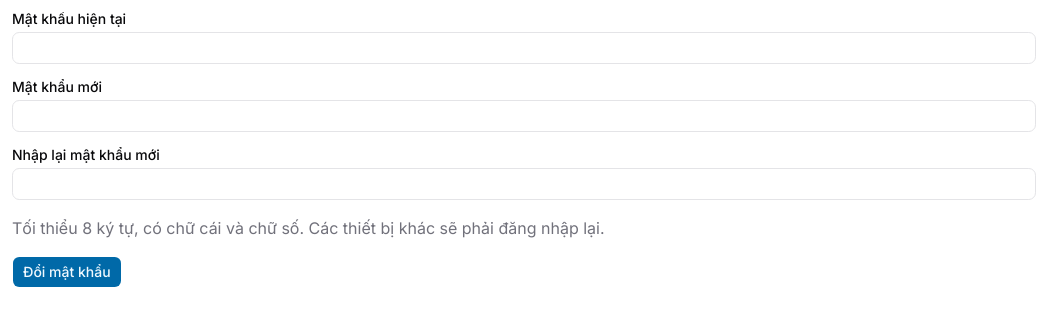
Test: PasswordForm › sai mật khẩu hiện tại → lỗi dưới ô
Type "Saimatkhau1" into the password field labelled "Mật khẩu hiện tại" at {"x": 524, "y": 48}, box x1=12 y1=32 x2=1036 y2=64
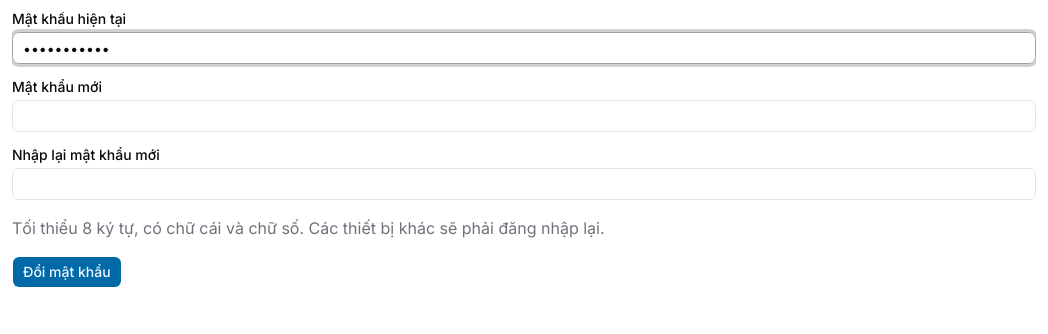
Type "Moimatkhau1" into the password field labelled "Mật khẩu mới" at {"x": 524, "y": 116}, box x1=12 y1=100 x2=1036 y2=132
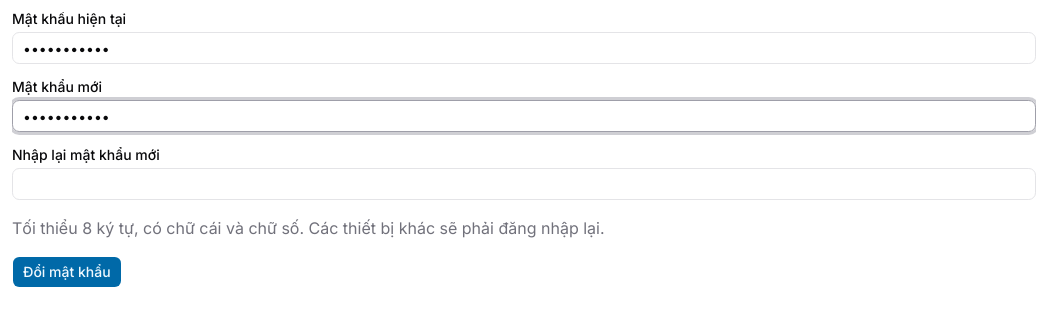
Type "Moimatkhau1" into the password field labelled "Nhập lại mật khẩu mới" at {"x": 524, "y": 184}, box x1=12 y1=168 x2=1036 y2=200
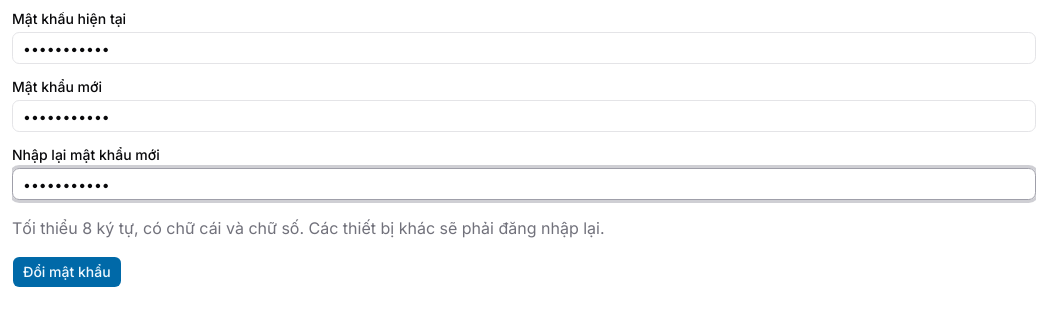
Click the button "Đổi mật khẩu" at {"x": 67, "y": 272}, box x1=12 y1=256 x2=122 y2=288
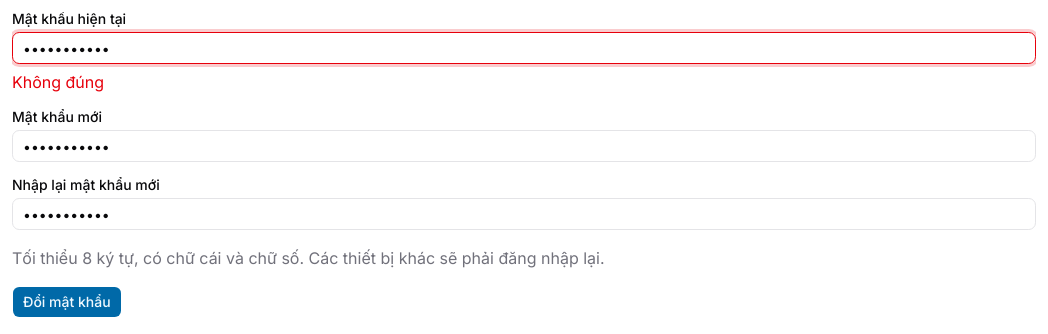
Check: the text "Không đúng" is shown, box x1=12 y1=72 x2=104 y2=92
